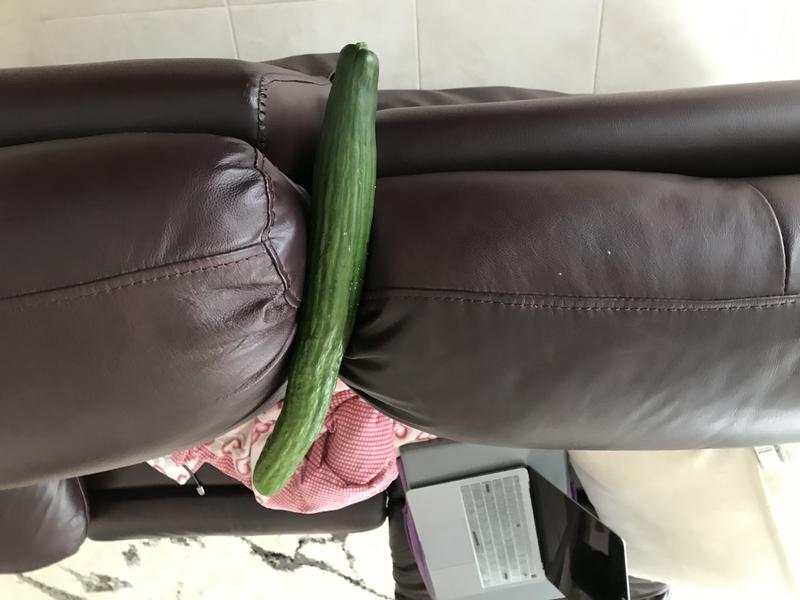cucumber: (239, 30, 405, 512)
